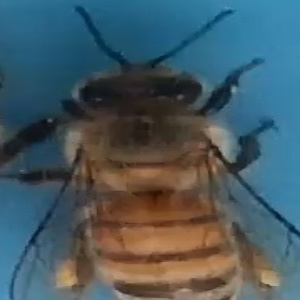bee: (8, 4, 292, 300)
